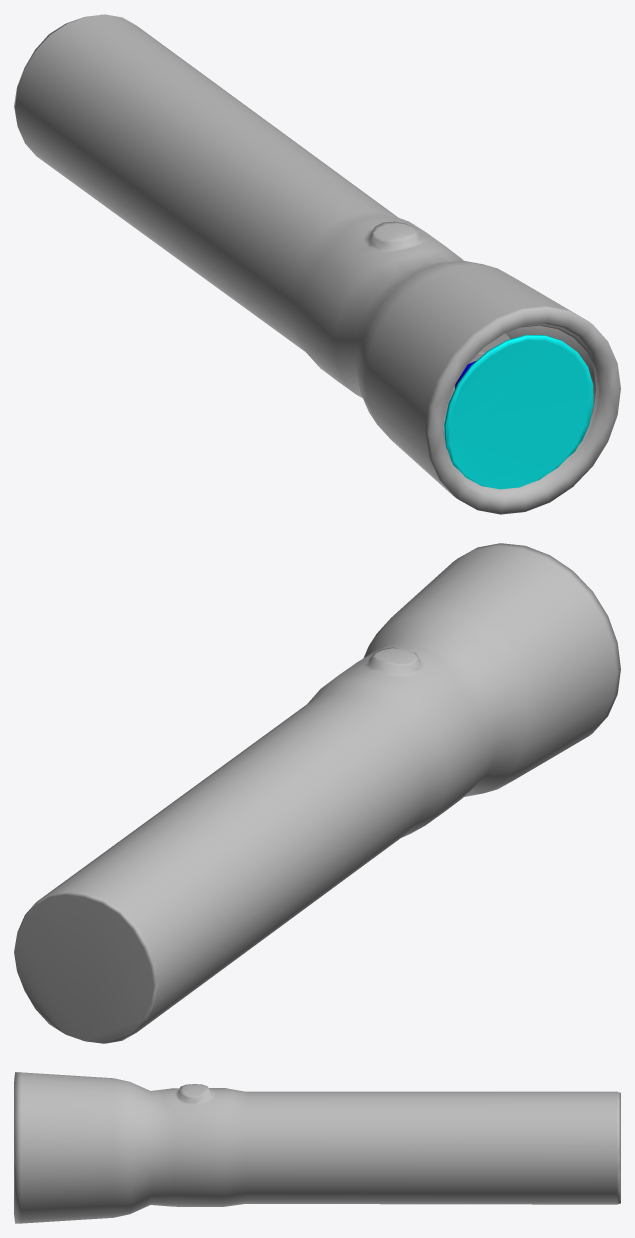
Rendered from old_flashlight.fbx.
The picture shows the model from 3 angles, top to bottom: view 1: azimuth 30°, elevation 25°; view 2: azimuth 150°, elevation 25°; view 3: azimuth 270°, elevation 25°; orthographic projection. The views are drawn at different scales.
Parts seen in each view (by area): view 1: midComb_light_bottom, glassTop; view 2: midComb_light_bottom; view 3: midComb_light_bottom.
Boxes of the visible parts, <box> form: midComb_light_bottom: <box>14,14,620,514</box>; glassTop: <box>444,335,593,489</box>; midComb_light_bottom: <box>14,543,620,1043</box>; midComb_light_bottom: <box>14,1072,620,1223</box>.
Size of the model in its own units: 6.25 by 6.25 by 25.
